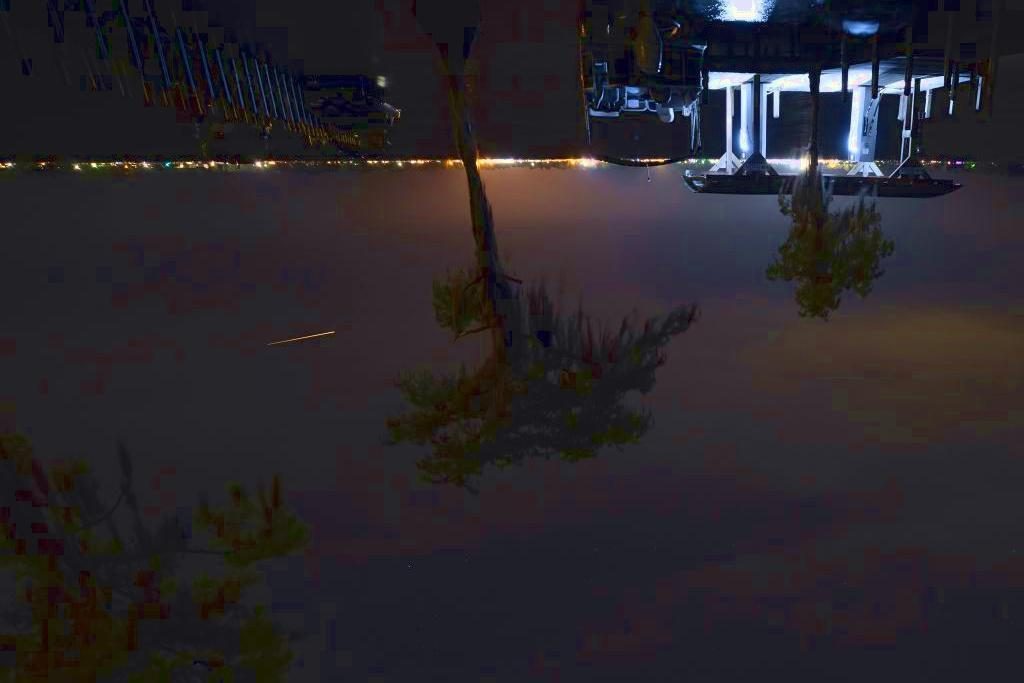meteorite: (239, 323, 361, 356)
